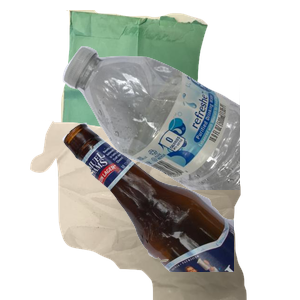glass: (60, 120, 300, 300)
paper: (55, 10, 255, 190)
plastic: (60, 44, 300, 224)
trash: (28, 120, 267, 300)
